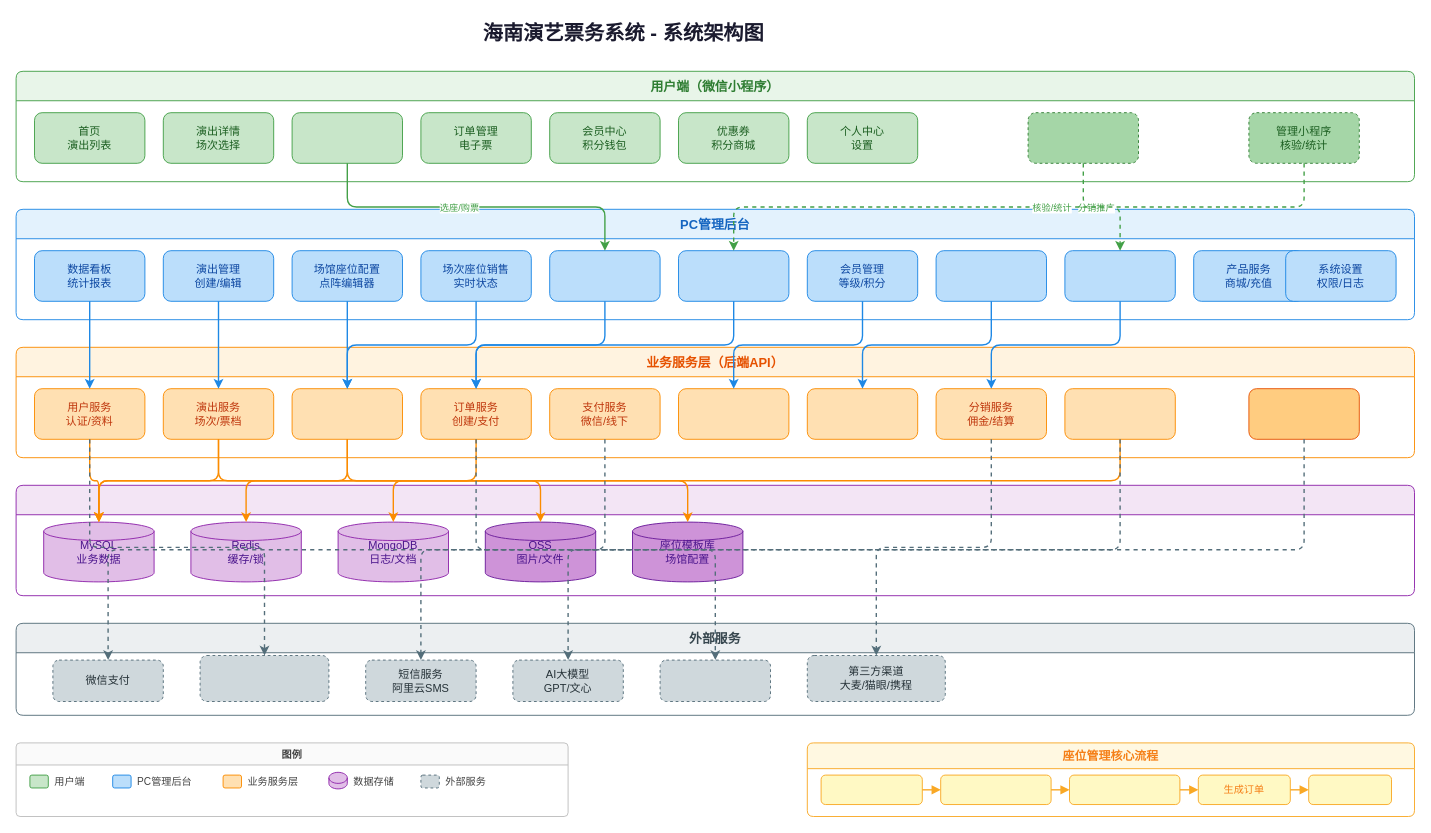
The diagram is 1431 pixels wide and 833 high, and some of its shapes have lost their labels. Each missing label, with the box of its shape:
AI营销服务 文案/策略: (1248, 388, 1359, 439)
会员服务 等级/积分: (678, 388, 789, 439)
分销小程序 推广/佣金: (1027, 112, 1138, 163)
分销管理 代理/佣金: (1064, 250, 1175, 301)
场馆座位配置: (820, 774, 922, 805)
座位服务 选座/锁定: (291, 388, 402, 439)
微信小程序 登录/模板消息: (199, 655, 329, 702)
支付完成: (1308, 774, 1392, 805)
数据存储层: (15, 484, 1414, 596)
生成场次座位图: (940, 774, 1051, 805)
电子票核验 扫码闸机: (659, 659, 770, 702)
营销中心 优惠券/活动: (935, 250, 1046, 301)
营销服务 优惠券/活动: (806, 388, 918, 439)
订单管理 退票/售后: (678, 250, 789, 301)
选座/锁定/预留: (1069, 774, 1180, 805)
选座售票 渠道/预留: (549, 250, 660, 301)
选座购票 订单确认: (291, 112, 402, 163)
通知服务 短信/推送: (1064, 388, 1175, 439)
